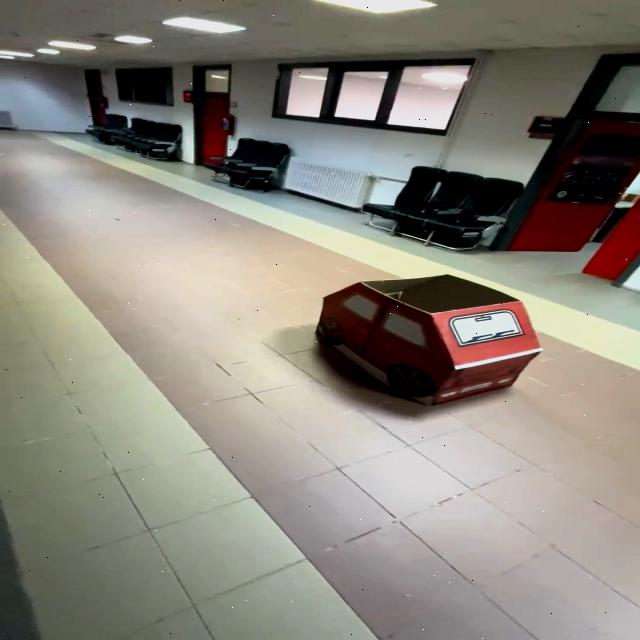red_car: (249, 266, 576, 422)
